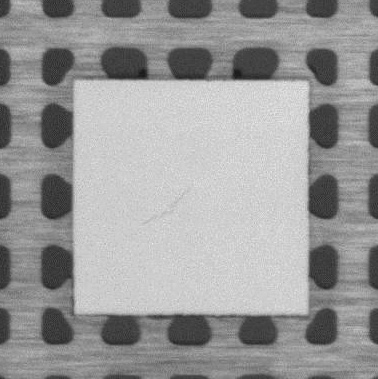DIE_CRACK: (141, 182, 196, 225)
